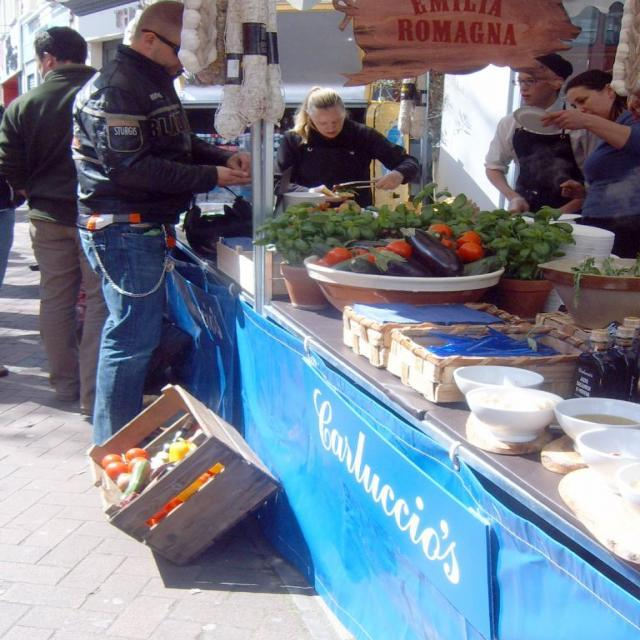Tomato: (384, 239, 412, 259), (124, 446, 153, 464), (104, 461, 130, 481), (325, 245, 353, 263), (454, 242, 478, 260), (371, 246, 390, 262), (103, 453, 124, 465), (427, 224, 455, 232)
